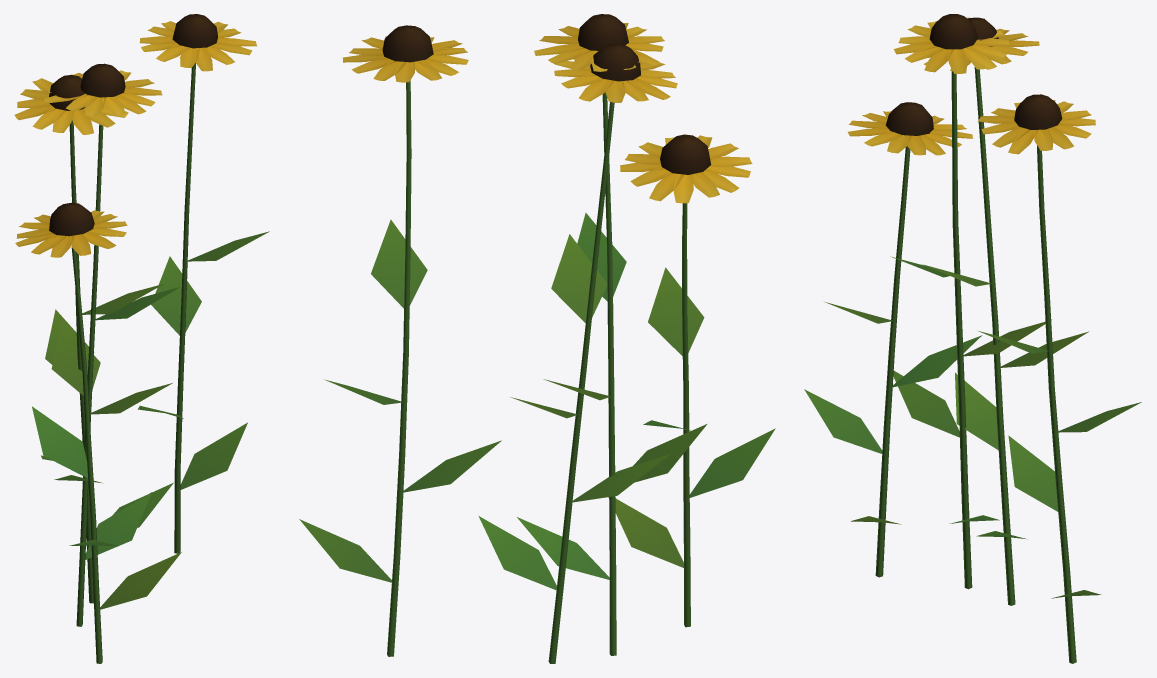
File: flower-black-eyed-susan-b.lod0.glb
3 views of the same model, side by side, from view 1: azimuth 30°, elevation 25°; view 2: azimuth 150°, elevation 25°; view 3: azimuth 270°, elevation 25° (orthographic). The views are drawn at different scales.
Parts seen in each view (by area): view 1: flower-black-eyed-susan-b.lod0; view 2: flower-black-eyed-susan-b.lod0; view 3: flower-black-eyed-susan-b.lod0.
Part boxes in pixels (x1,y1,x2,y2): flower-black-eyed-susan-b.lod0: (14,14,269,663); flower-black-eyed-susan-b.lod0: (299,14,775,663); flower-black-eyed-susan-b.lod0: (804,14,1141,663).
Bounding box in the file's own units: 0.2788 × 0.4793 × 0.2544.
